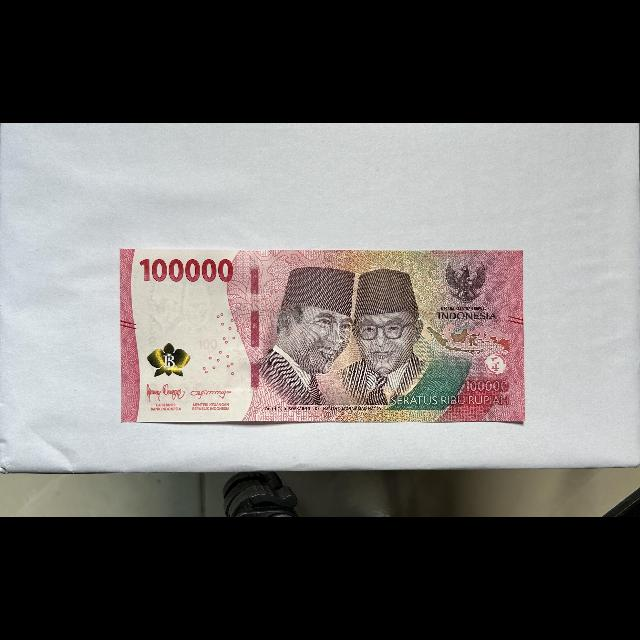Asli-100k: (118, 247, 527, 424)
Tinta-Asli-100k: (147, 341, 192, 377)
